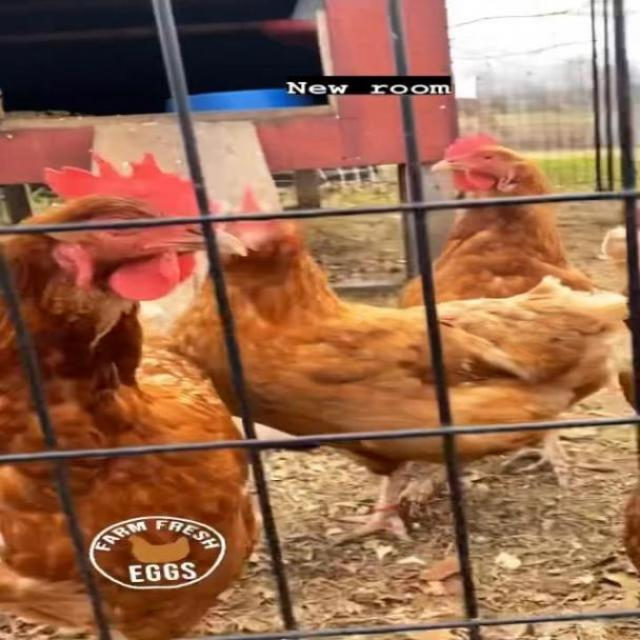Chicken: (158, 185, 628, 549), (0, 148, 255, 640), (399, 129, 608, 485), (605, 199, 640, 572)
